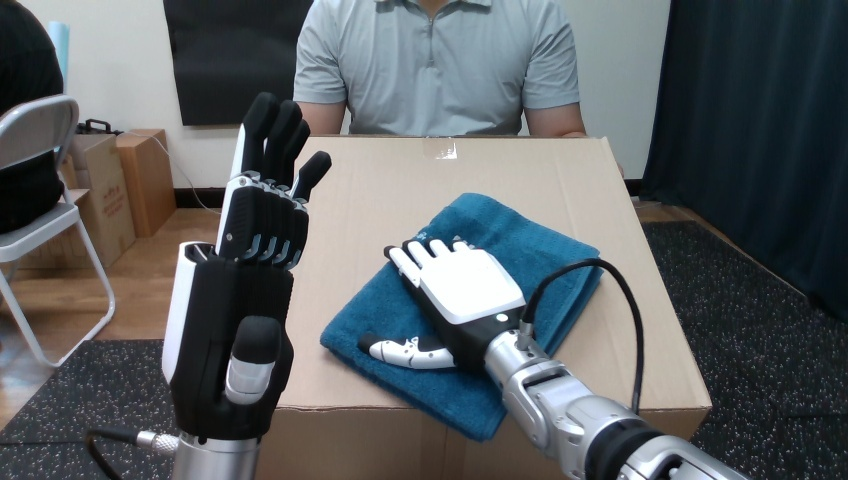left robot hand: (86, 92, 330, 478), (359, 239, 746, 479), (532, 265, 637, 409)
